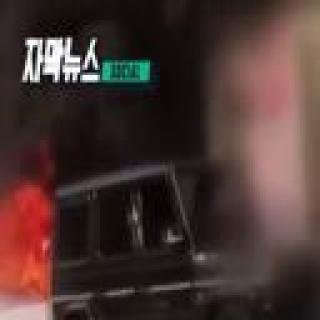fire: (0, 211, 54, 305)
